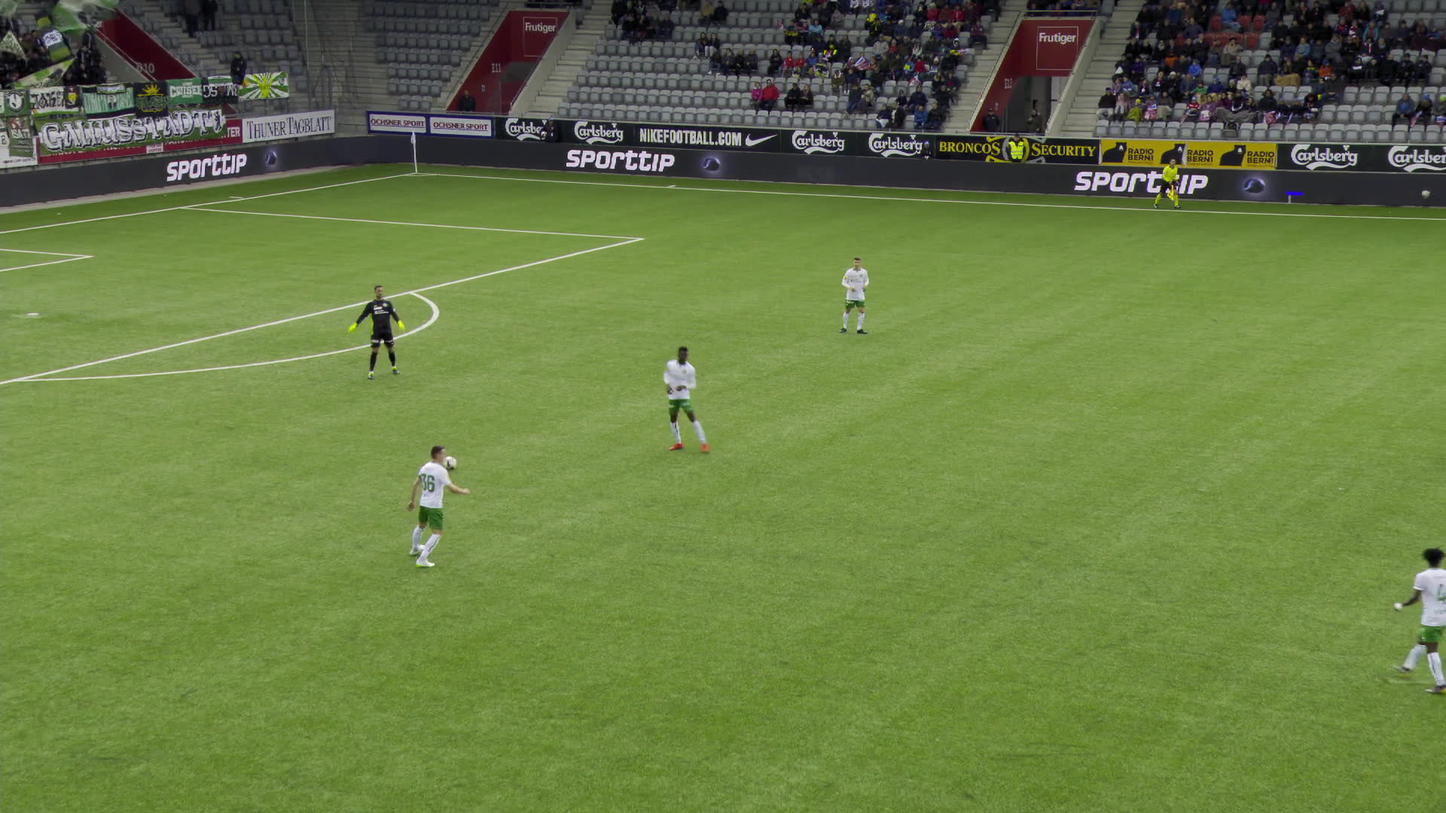ball: (439, 450, 455, 464)
player: (405, 440, 468, 570), (1397, 555, 1444, 699), (662, 345, 717, 458), (348, 283, 407, 383), (837, 254, 871, 337)
referee: (1152, 157, 1182, 212)
